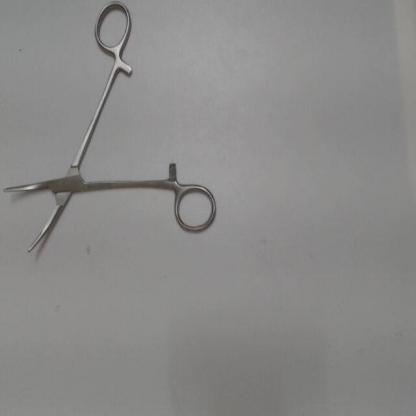Crile Artery Forceps: (2, 1, 218, 264)
